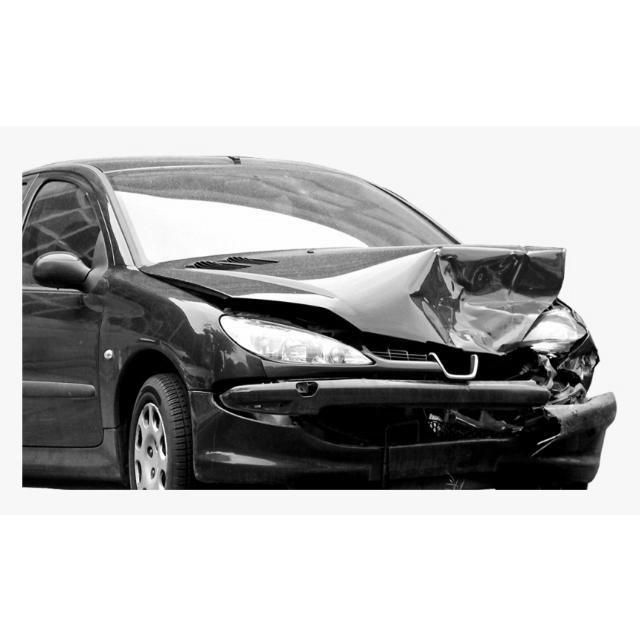Headlight-damage: (520, 308, 581, 369)
bonnet-dent: (219, 238, 555, 343)
front-bumper-dent: (381, 352, 569, 470), (216, 372, 371, 438), (549, 342, 593, 475)
